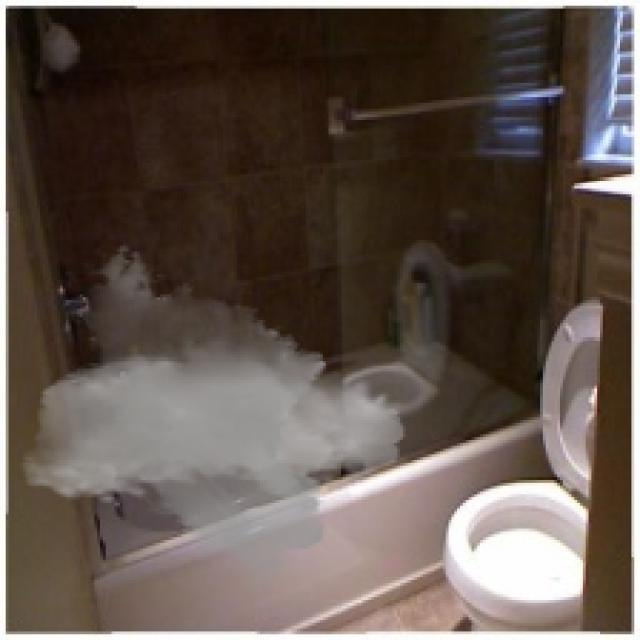Smoke: (20, 242, 406, 594)
